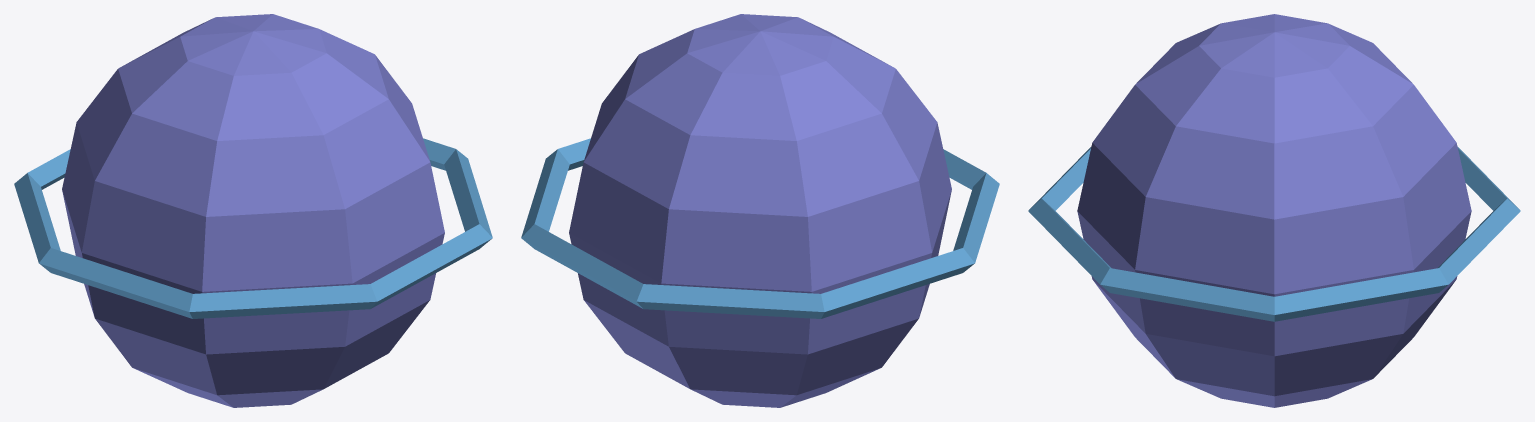
Rendered from neptune.dae.
3 renders of one model, left to right at view 1: azimuth 30°, elevation 25°; view 2: azimuth 150°, elevation 25°; view 3: azimuth 270°, elevation 25°, orthographic.
Visible parts, largest first — view 1: Sphere, Torus; view 2: Sphere, Torus; view 3: Sphere, Torus.
Part boxes in pixels (bbox=[...]): Sphere: bbox=[62, 14, 444, 407]; Torus: bbox=[14, 138, 492, 318]; Sphere: bbox=[569, 14, 951, 407]; Torus: bbox=[521, 138, 999, 318]; Sphere: bbox=[1077, 14, 1471, 407]; Torus: bbox=[1028, 147, 1520, 321].
Size of the model in its own units: 18.46 by 18.46 by 14.77.
